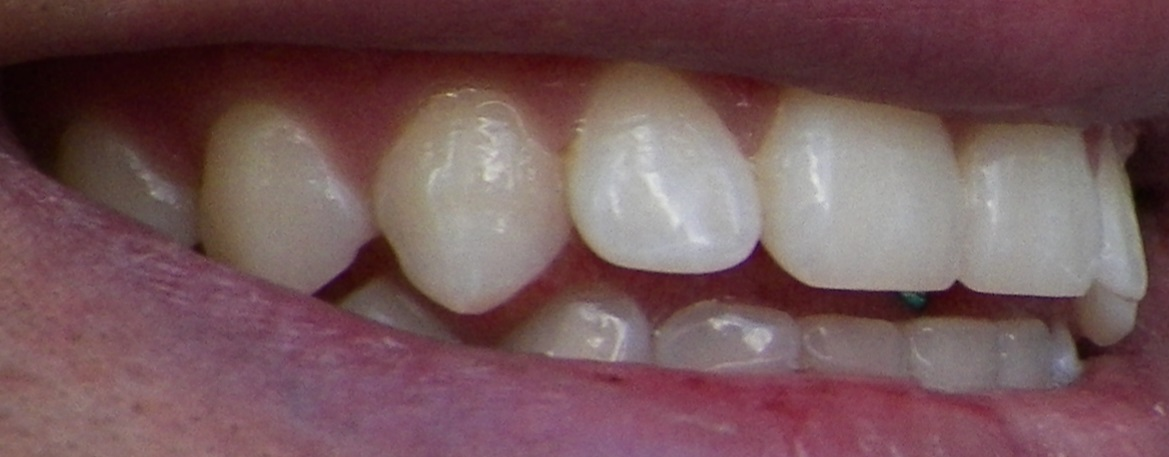boca: (56, 70, 1159, 400)
